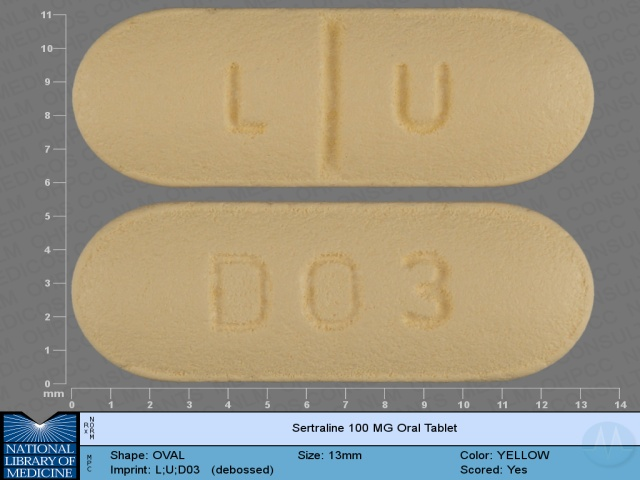0: (298, 248, 367, 339)
3: (397, 246, 459, 337)
D: (208, 250, 273, 339)
L: (221, 50, 273, 145)
U: (389, 54, 460, 143)
|: (311, 19, 358, 181)
